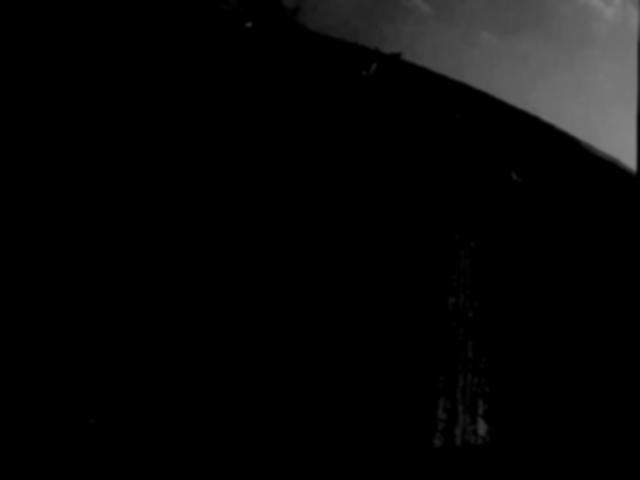hedef: (333, 35, 407, 106)
